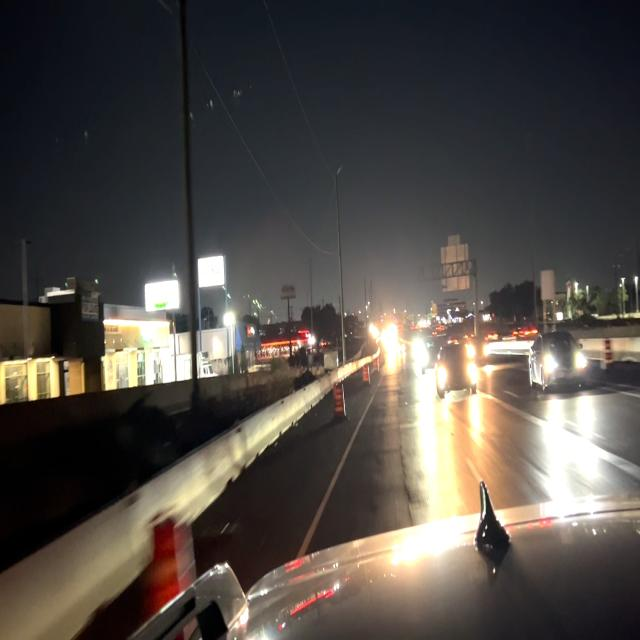back-of-sign: (438, 229, 475, 300)
